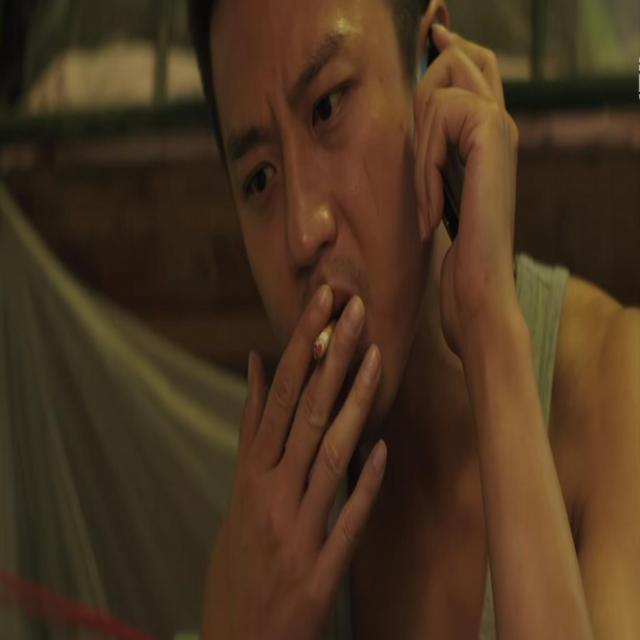cigarette: (311, 314, 341, 359)
